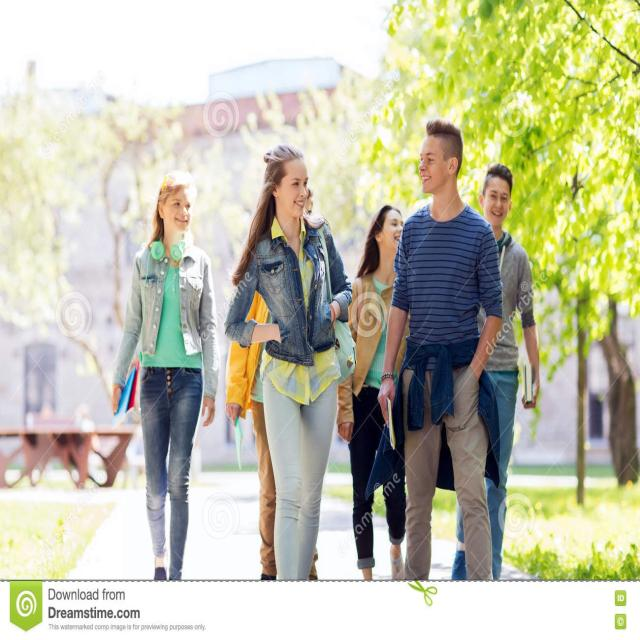body: (377, 120, 507, 622), (225, 143, 356, 622), (110, 170, 222, 602), (450, 163, 540, 581), (225, 186, 319, 580), (337, 202, 412, 581)
